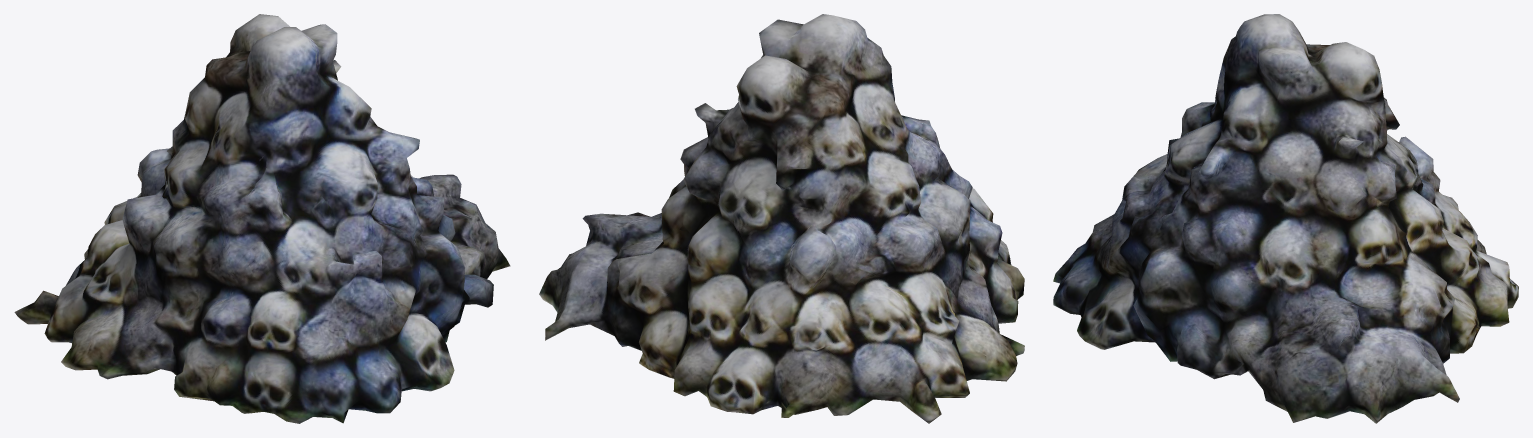
The model's file is Skull pile.fbx.
3 renders of one model, left to right at view 1: azimuth 30°, elevation 25°; view 2: azimuth 150°, elevation 25°; view 3: azimuth 270°, elevation 25°, orthographic. The views are drawn at different scales.
Visible parts, largest first — view 1: mesh; view 2: mesh; view 3: mesh.
Boxes of the visible parts, left/top/right/bottom form: mesh: left=14, top=14, right=510, bottom=423; mesh: left=539, top=14, right=1024, bottom=423; mesh: left=1053, top=14, right=1518, bottom=423.
Size of the model in its own units: 100 by 66.43 by 94.24.
